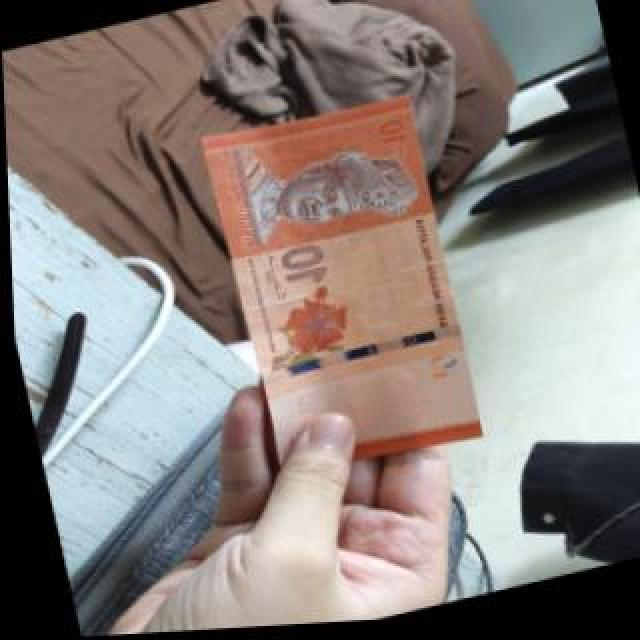10 Ringgit: (200, 94, 484, 495)
